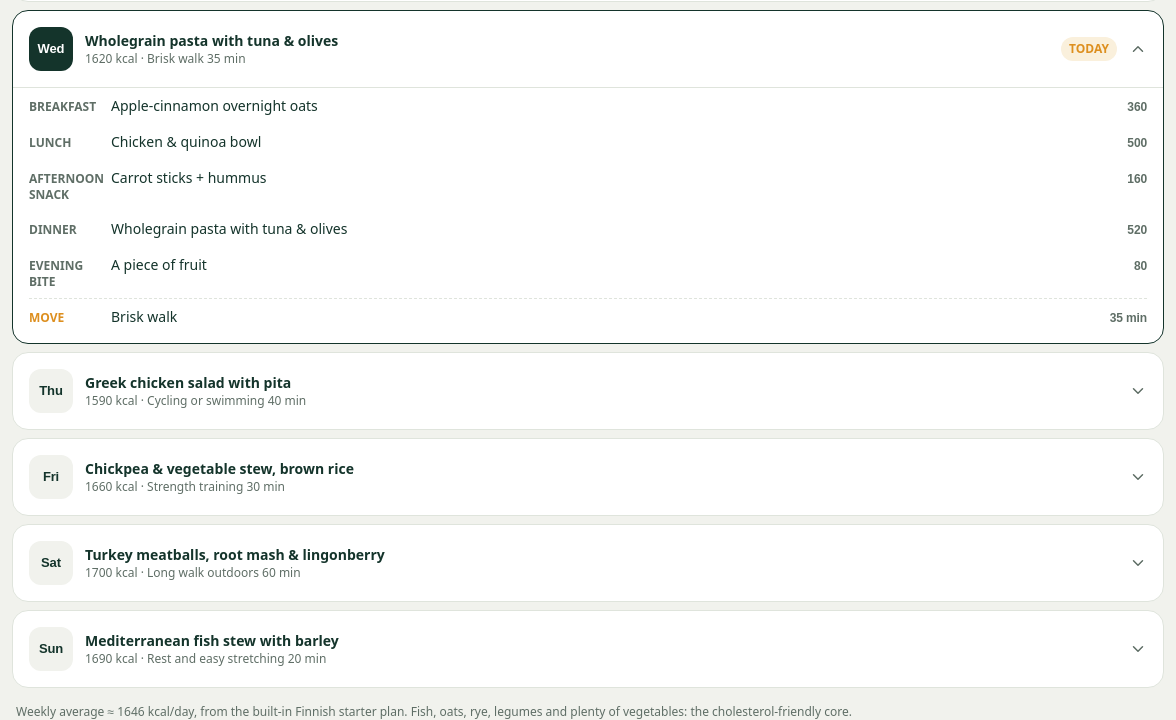
the week › opens one day at a time
(page scrolled)
Click the button named "Saturday".
click(51, 563)  # box [13,525,1163,601]
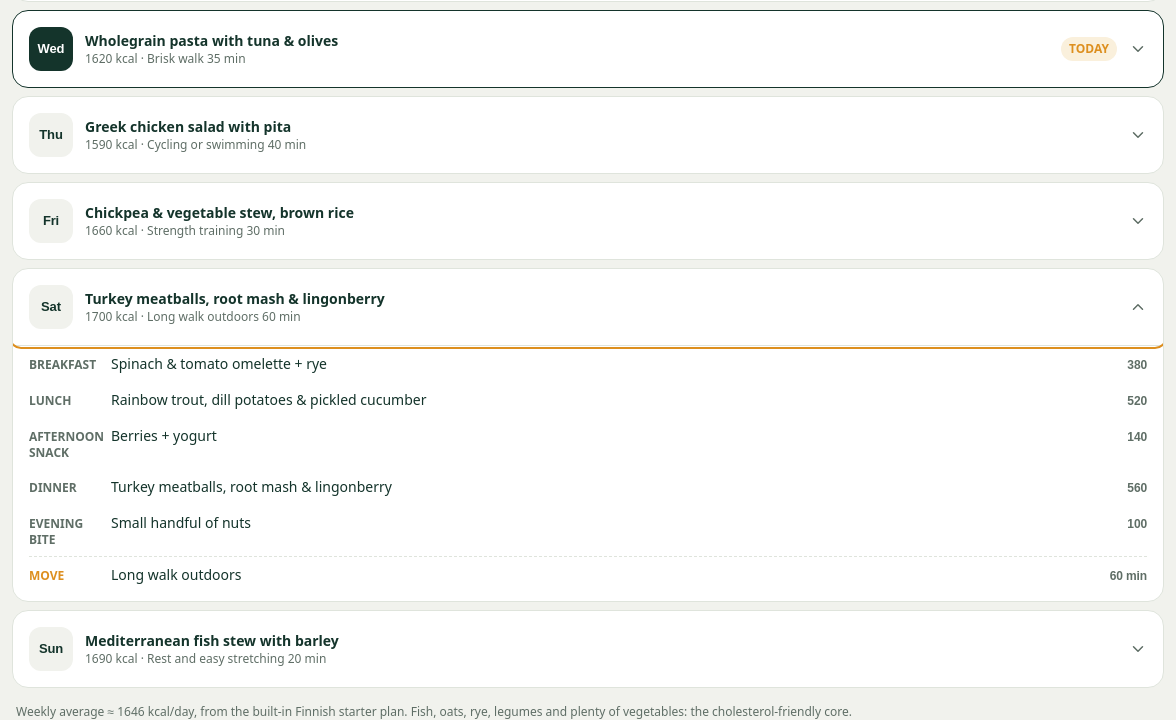
Expected: the button named "Saturday" is expanded, [13,269,1163,345]
Expected: the button named "Wednesday" is collapsed, [13,11,1163,87]
